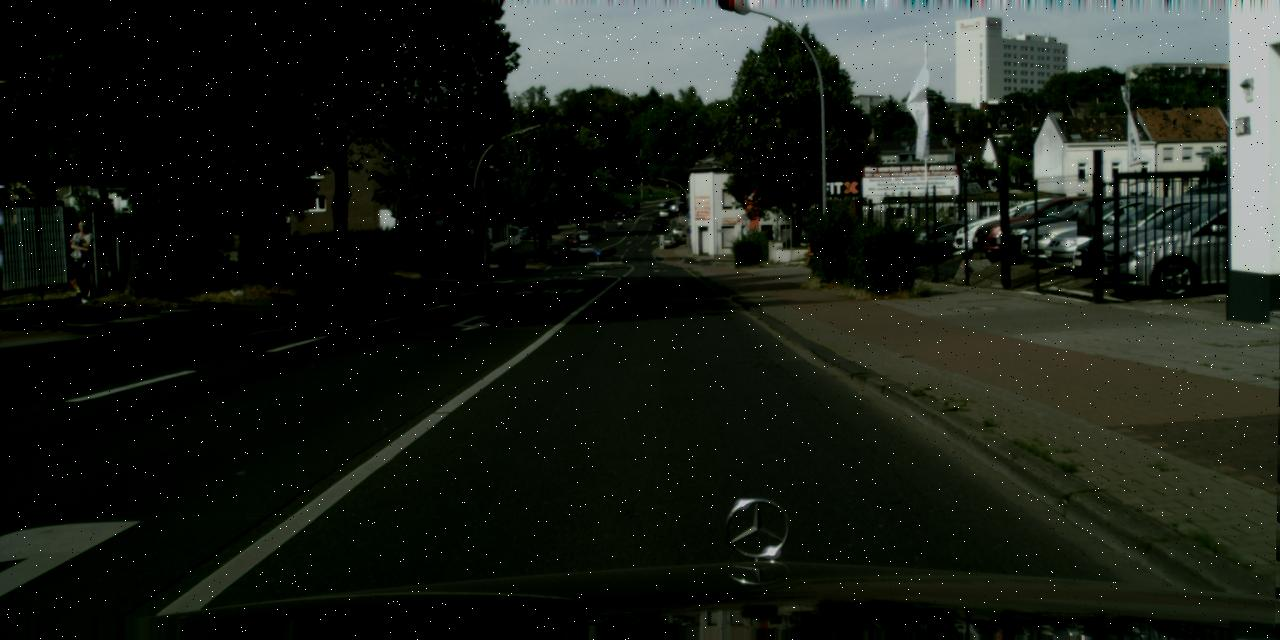ped: (68, 219, 100, 298), (601, 224, 605, 234)
